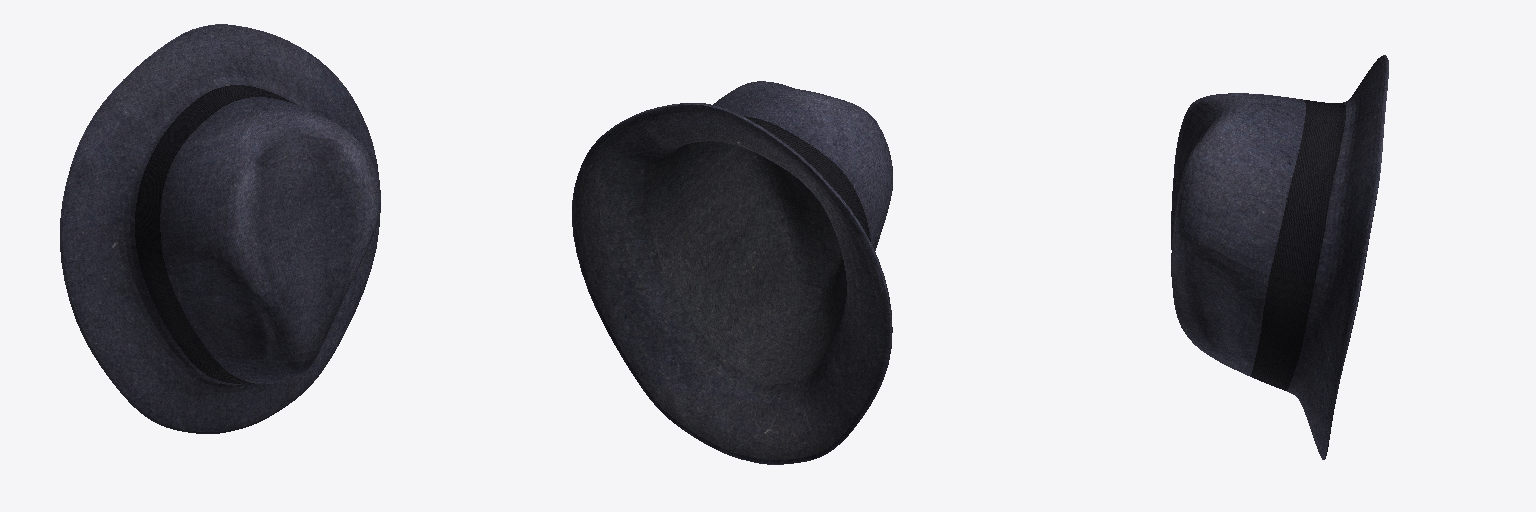
The picture shows the model from 3 angles: view 1: azimuth 30°, elevation 25°; view 2: azimuth 150°, elevation 25°; view 3: azimuth 270°, elevation 25°; orthographic projection.
Visible parts, largest first — view 1: 10138_Fedora_v01; view 2: 10138_Fedora_v01; view 3: 10138_Fedora_v01.
Boxes of the visible parts, x1,y1,x2,y2 form: 10138_Fedora_v01: [60, 24, 380, 433]; 10138_Fedora_v01: [572, 81, 892, 464]; 10138_Fedora_v01: [1171, 55, 1388, 459].
Size of the model in its own units: 27.79 by 31.61 by 16.46.
Materials: 1 (1 with a texture image).